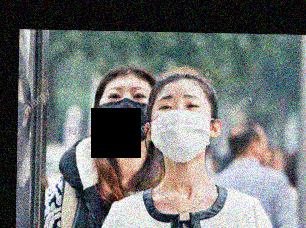with_mask: (149, 91, 213, 164), (96, 83, 154, 148)
